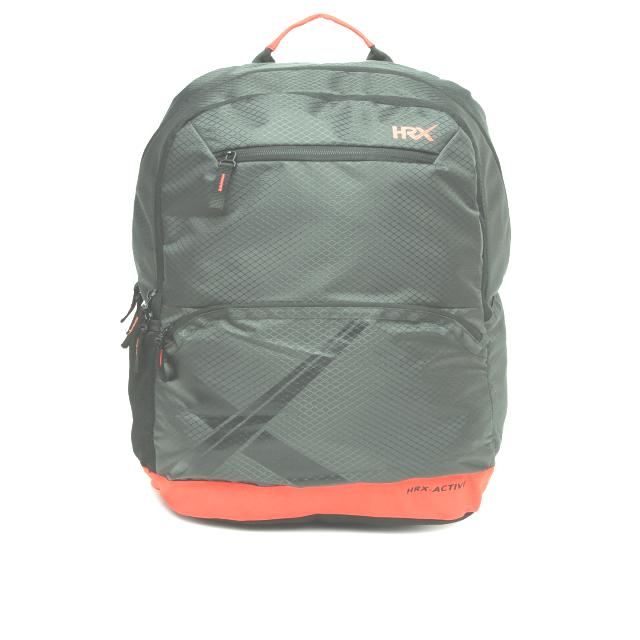backpack: (121, 13, 513, 527)
